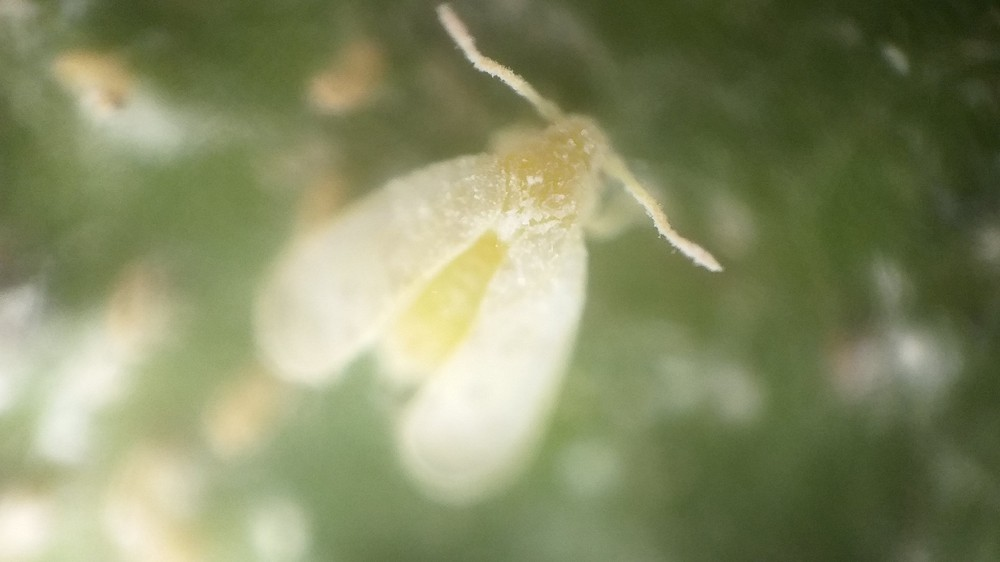Mosca Blanca: (242, 14, 731, 529)
